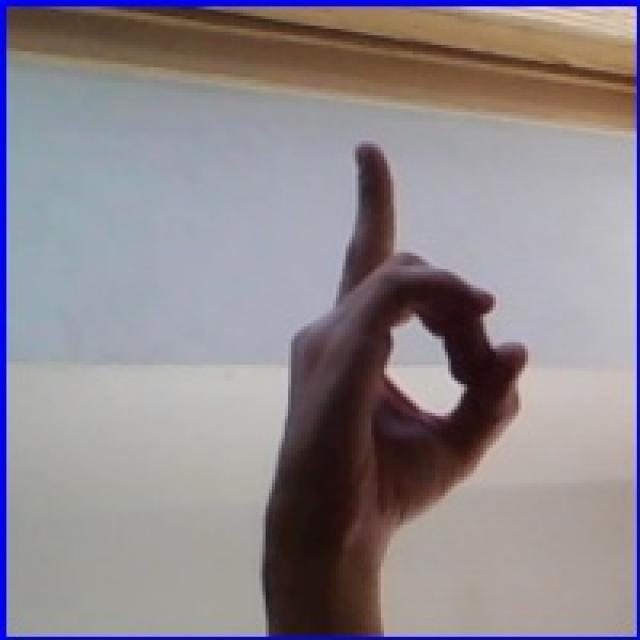Letra D: (221, 114, 549, 603)
